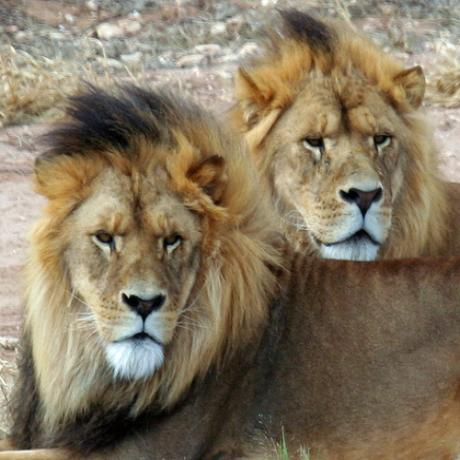Lion: (0, 90, 290, 460), (236, 6, 460, 263)
